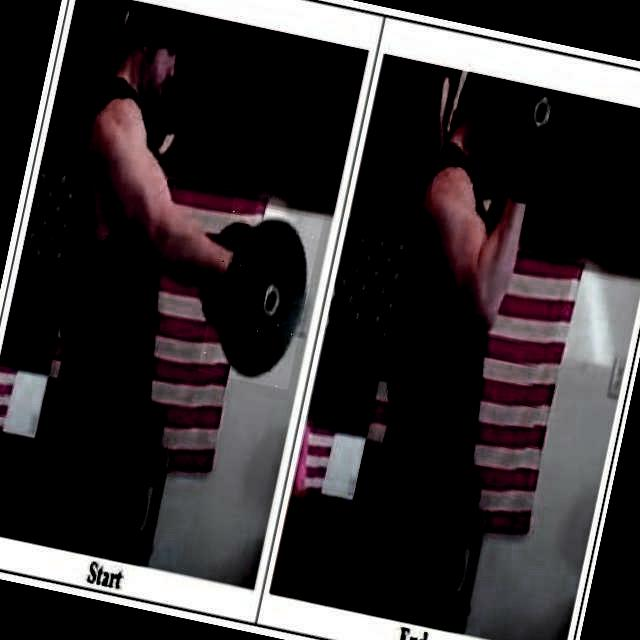barbell: (197, 197, 325, 390)
